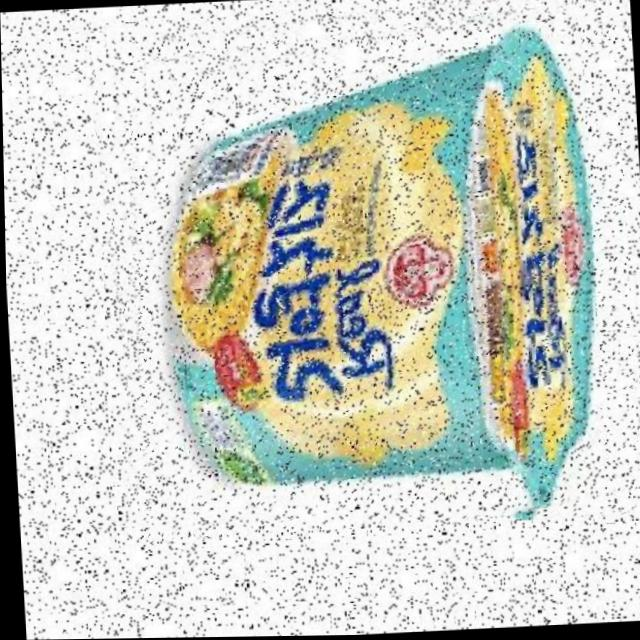Miscellaneous: (90, 0, 638, 539)
